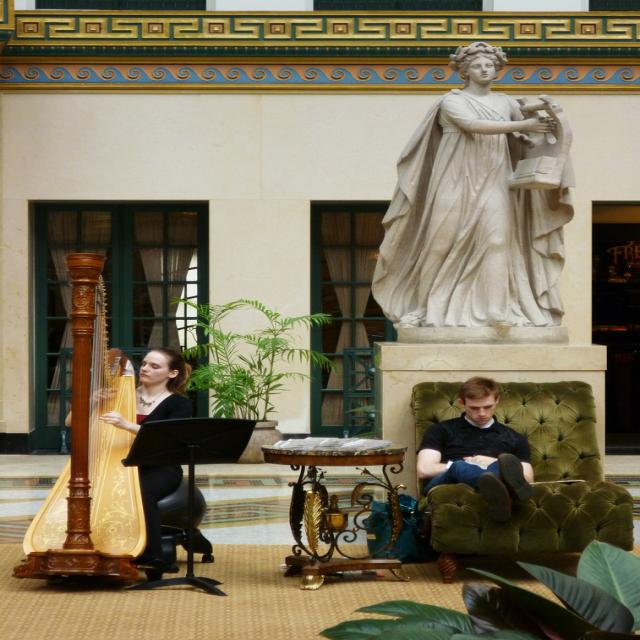harp: (14, 248, 155, 582)
